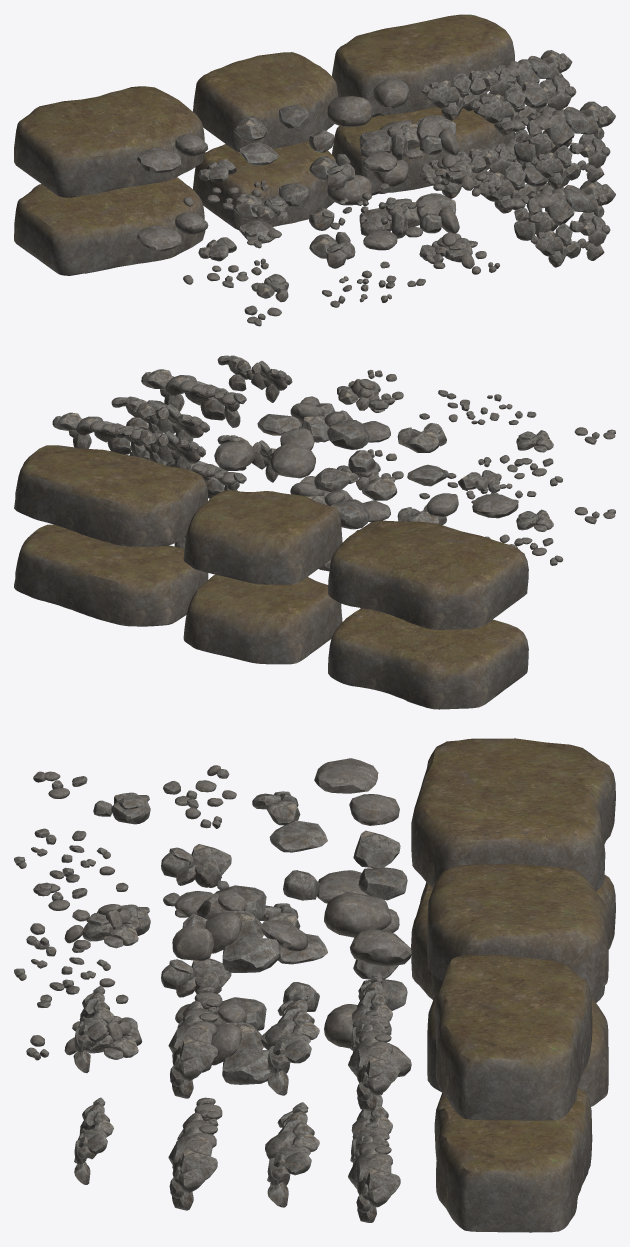
File: Rocks_Stones_A1.fbx
3 renders of one model, top to bottom at view 1: azimuth 30°, elevation 25°; view 2: azimuth 150°, elevation 25°; view 3: azimuth 270°, elevation 25°, orthographic. The views are drawn at different scales.
Parts seen in each view (by area): view 1: Ground_Platform_Mesh_A1.001, Ground_Platform_Mesh_A1, Ground_Platform_Mesh_A3.001, Ground_Platform_Mesh_A2.001, Ground_Platform_Mesh_A2, Ground_Platform_Mesh_A3, Ground_Platform_RockWall_A3.001, Rocks_Stones_Group_A1.001, Ground_Platform_RockWall_A1.001, Ground_Platform_RockWall_A1, Rocks_Stones_Group_A1, Ground_Platform_RockWall_A2.001 (+31 smaller); view 2: Ground_Platform_Mesh_A1.001, Ground_Platform_Mesh_A1, Ground_Platform_Mesh_A3.001, Ground_Platform_Mesh_A3, Ground_Platform_Mesh_A2.001, Ground_Platform_Mesh_A2, Rocks_Stones_Group_A1.001, Ground_Platform_RockWall_A3.001, Ground_Platform_RockWall_A1.001, Ground_Platform_RockWall_A2.001, Rocks_Stones_Group_A1, Ground_Platform_RockWall_A4.001 (+21 smaller); view 3: Ground_Platform_Mesh_A1.001, Ground_Platform_Mesh_A3.001, Ground_Platform_Mesh_A3, Ground_Platform_Mesh_A2.001, Rocks_Stones_Group_A1.001, Ground_Platform_RockWall_A3.001, Rocks_Stones_Group_A1, Ground_Platform_RockWall_A3, Ground_Platform_RockWall_A1, Ground_Platform_RockWall_A1.001, Ground_Platform_RockWall_A2.001, Ground_Platform_RockWall_A2 (+25 smaller).
Part boxes in pixels (<box>): Ground_Platform_Mesh_A1.001: <box>14,86,205,197</box>; Ground_Platform_Mesh_A1: <box>14,177,205,275</box>; Ground_Platform_Mesh_A3.001: <box>332,14,514,117</box>; Ground_Platform_Mesh_A2.001: <box>193,52,338,151</box>; Ground_Platform_Mesh_A2: <box>193,141,335,229</box>; Ground_Platform_Mesh_A3: <box>332,106,514,195</box>; Ground_Platform_RockWall_A3.001: <box>421,50,572,120</box>; Rocks_Stones_Group_A1.001: <box>359,115,459,172</box>; Ground_Platform_RockWall_A1.001: <box>500,101,615,162</box>; Ground_Platform_RockWall_A1: <box>500,180,615,240</box>; Rocks_Stones_Group_A1: <box>359,193,459,250</box>; Ground_Platform_RockWall_A2.001: <box>471,75,576,135</box>; Ground_Platform_Mesh_A1.001: <box>328,520,528,629</box>; Ground_Platform_Mesh_A1: <box>328,608,528,709</box>; Ground_Platform_Mesh_A3.001: <box>14,445,207,546</box>; Ground_Platform_Mesh_A3: <box>14,524,208,626</box>; Ground_Platform_Mesh_A2.001: <box>183,490,342,584</box>; Ground_Platform_Mesh_A2: <box>183,574,342,664</box>; Rocks_Stones_Group_A1.001: <box>257,396,390,450</box>; Ground_Platform_RockWall_A3.001: <box>52,412,205,470</box>; Ground_Platform_RockWall_A1.001: <box>141,369,246,427</box>; Ground_Platform_RockWall_A2.001: <box>111,396,209,441</box>; Rocks_Stones_Group_A1: <box>290,476,390,529</box>; Ground_Platform_RockWall_A4.001: <box>217,355,292,402</box>; Ground_Platform_Mesh_A1.001: <box>411,738,615,890</box>; Ground_Platform_Mesh_A3.001: <box>434,954,592,1120</box>; Ground_Platform_Mesh_A3: <box>434,1087,592,1232</box>; Ground_Platform_Mesh_A2.001: <box>427,864,608,994</box>; Rocks_Stones_Group_A1.001: <box>172,885,307,972</box>; Ground_Platform_RockWall_A3.001: <box>348,972,400,1111</box>; Rocks_Stones_Group_A1: <box>172,997,305,1084</box>; Ground_Platform_RockWall_A3: <box>348,1093,400,1222</box>; Ground_Platform_RockWall_A1: <box>168,1097,222,1210</box>; Ground_Platform_RockWall_A1.001: <box>168,986,222,1098</box>; Ground_Platform_RockWall_A2.001: <box>265,990,319,1095</box>; Ground_Platform_RockWall_A2: <box>265,1102,319,1207</box>.
Bounding box in the file's own units: 3293 × 887 × 2439.
